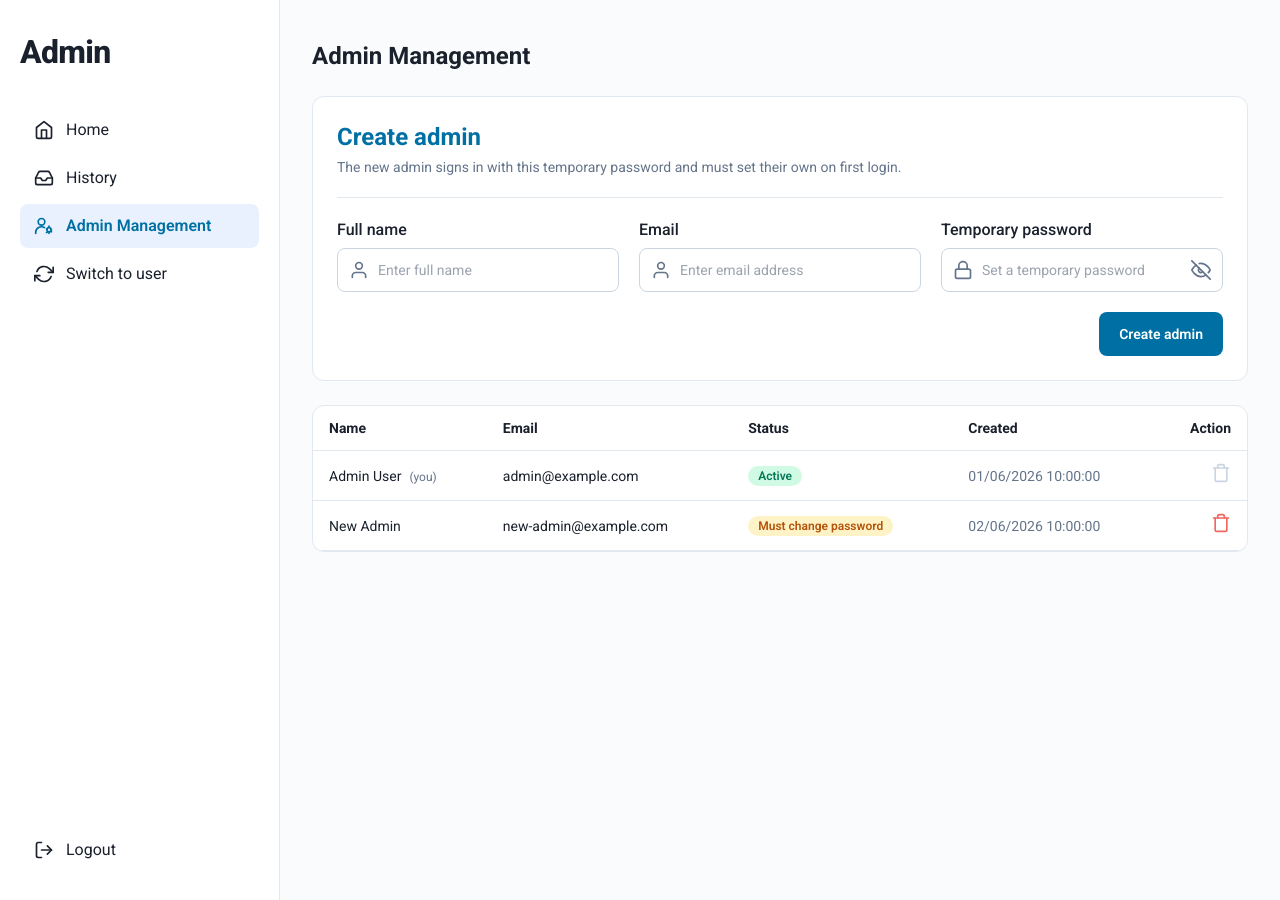
Test case: AdminUsersPage › validates the create form and blocks submit on a short password
Type "Another Admin" into the field with test id "admin-name-input".
click(478, 270); type("Another Admin")  # box [337,248,619,292]
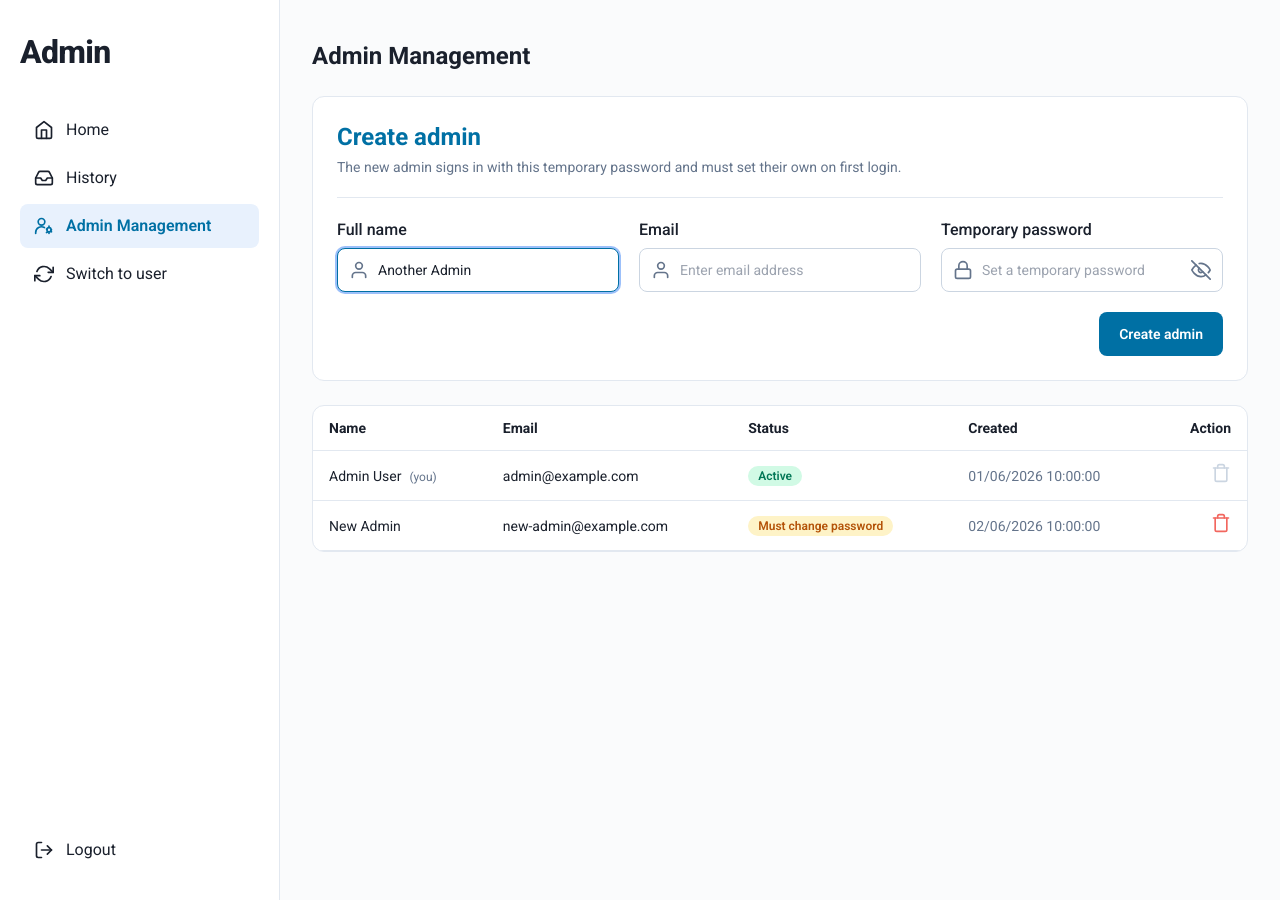
Type "another@example.com" into the field with test id "admin-email-input".
click(780, 270); type("another@example.com")  # box [639,248,921,292]
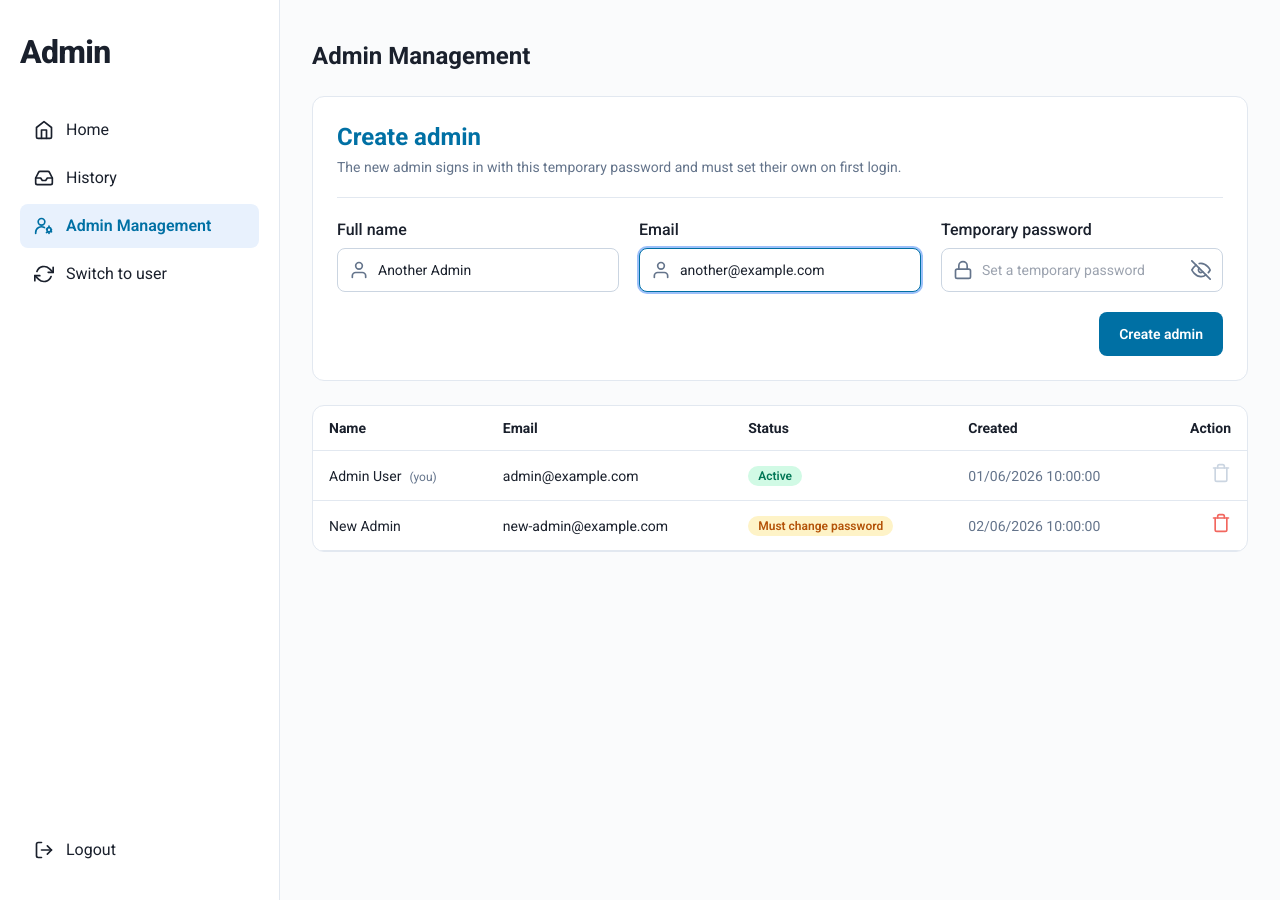
Type "short" into the password field with test id "admin-password-input".
click(1082, 270); type("short")  # box [941,248,1223,292]
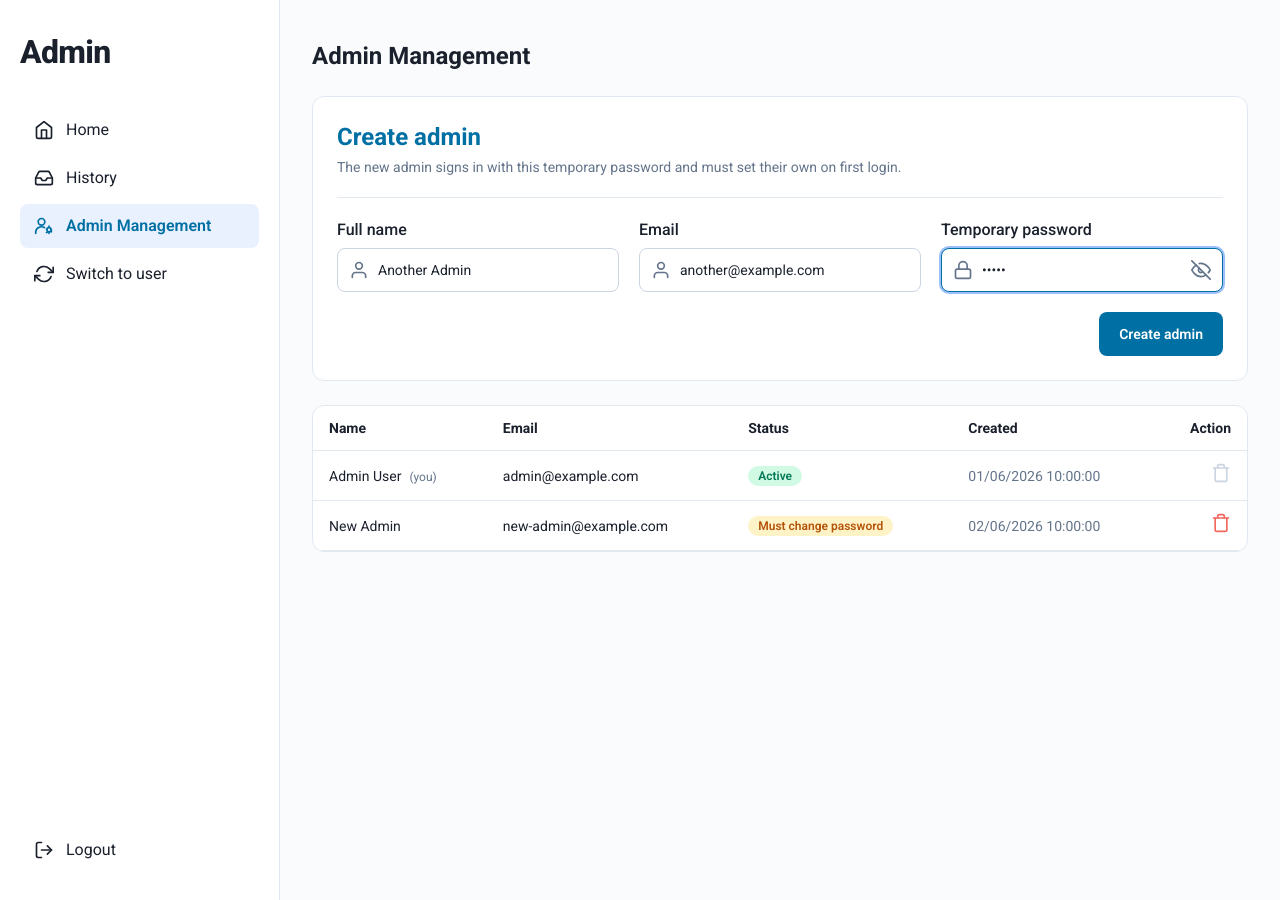
Click the button with test id "admin-create-btn".
click(1161, 334)  # box [1099,312,1223,356]
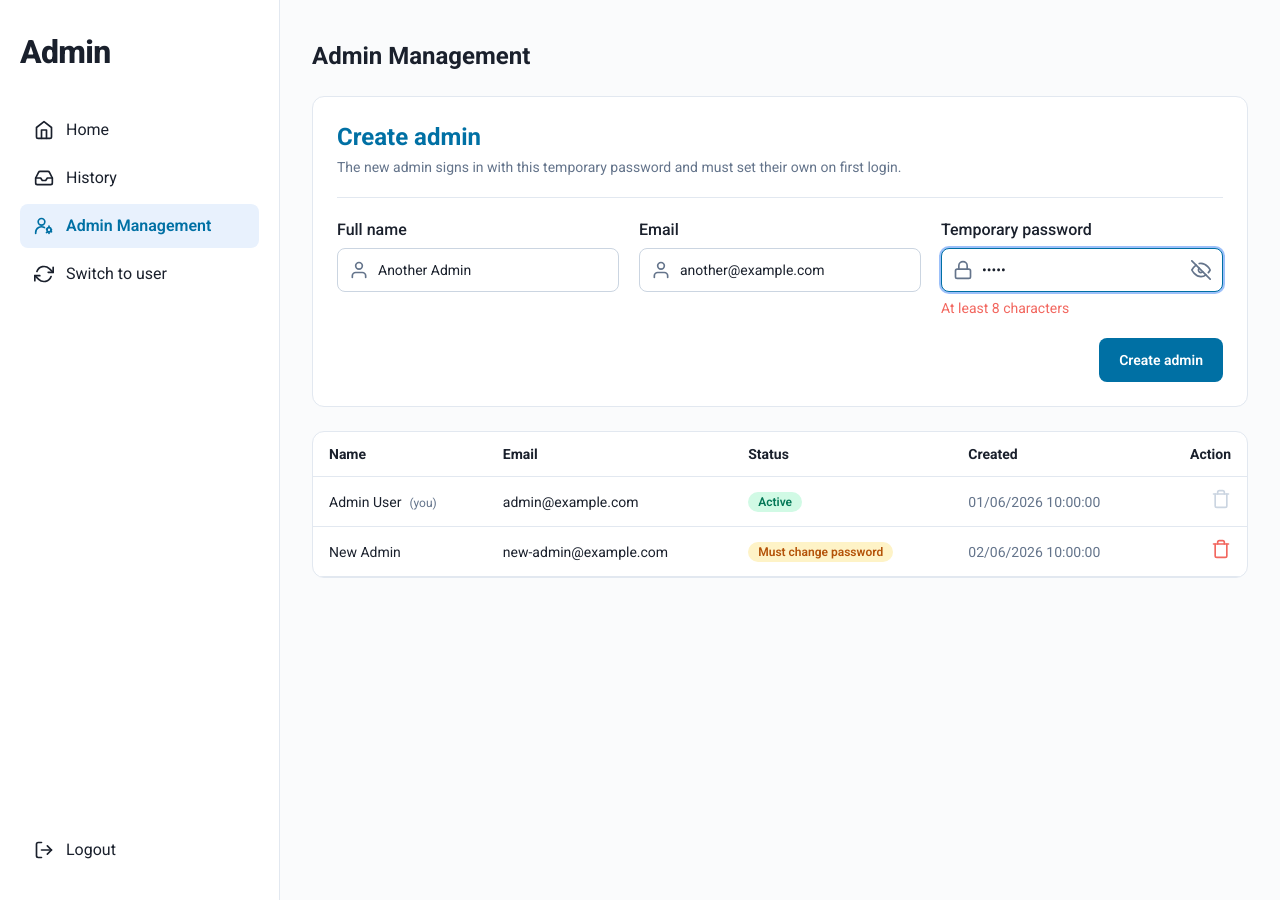
Expected: the text with test id "admin-password-input-error" shows "8 characters", [941,300,1069,316]
